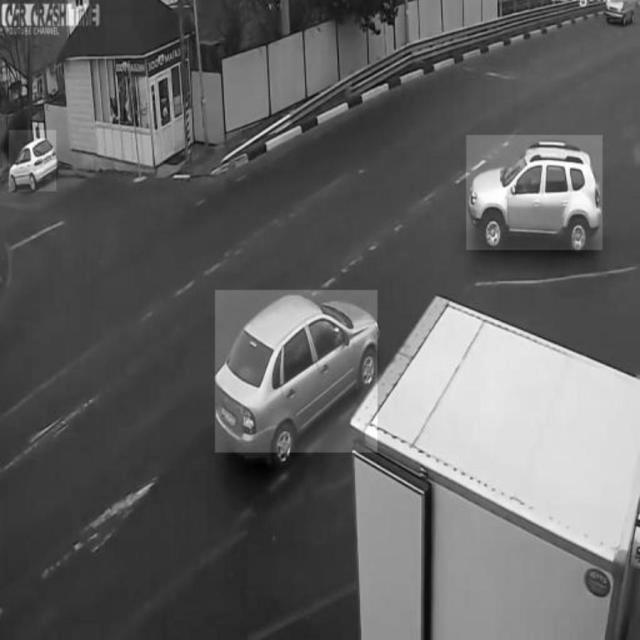vehicle: (216, 290, 378, 452), (466, 135, 602, 249), (9, 130, 56, 191)
